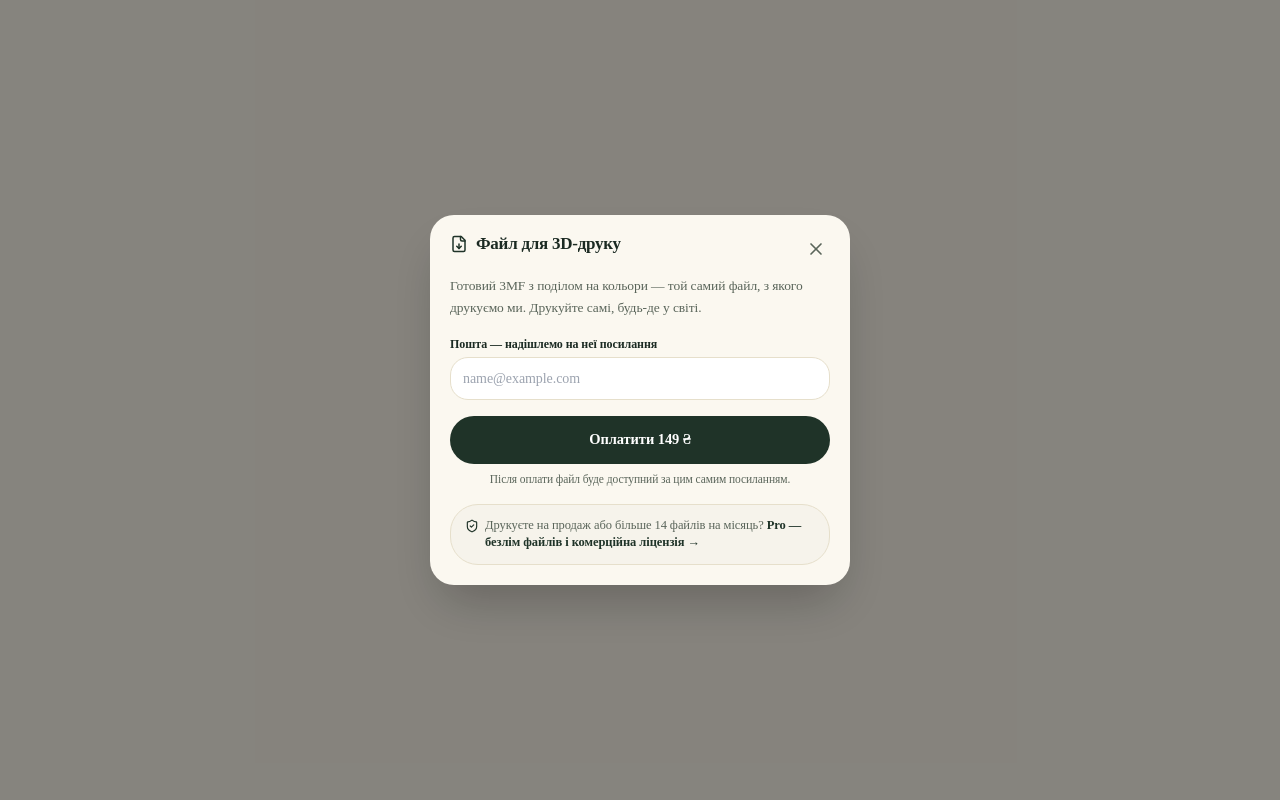
Test: BuyFileDialog · купівля друк-файлу › погана пошта — зрозуміла помилка, а не мовчання
The width and height of the screenshot is (1280, 800).
Check: the button with test id "buy-file-pay" is shown, box [450,416,830,464]
Type "не пошта" into the field with test id "buy-file-email" at (640,379), box [450,357,830,400]
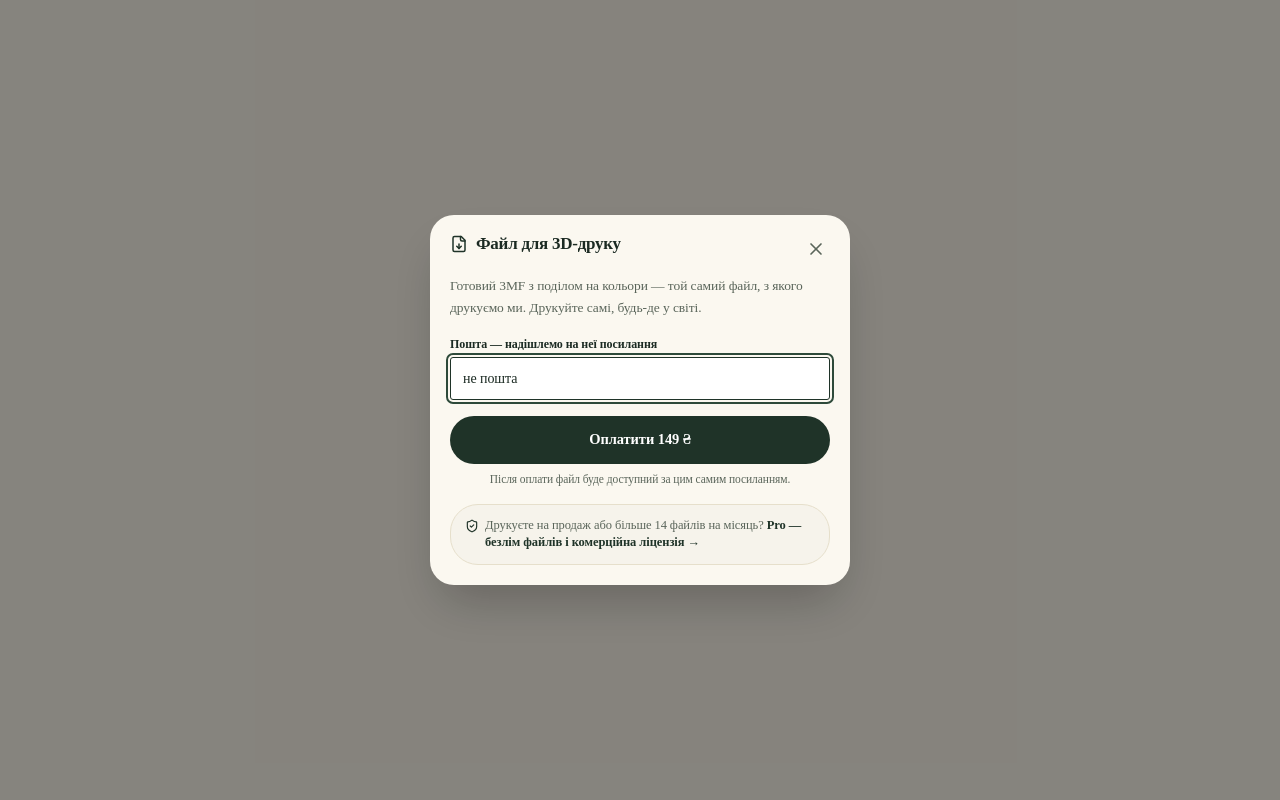
Click the button with test id "buy-file-pay" at (640,440), box [450,416,830,464]
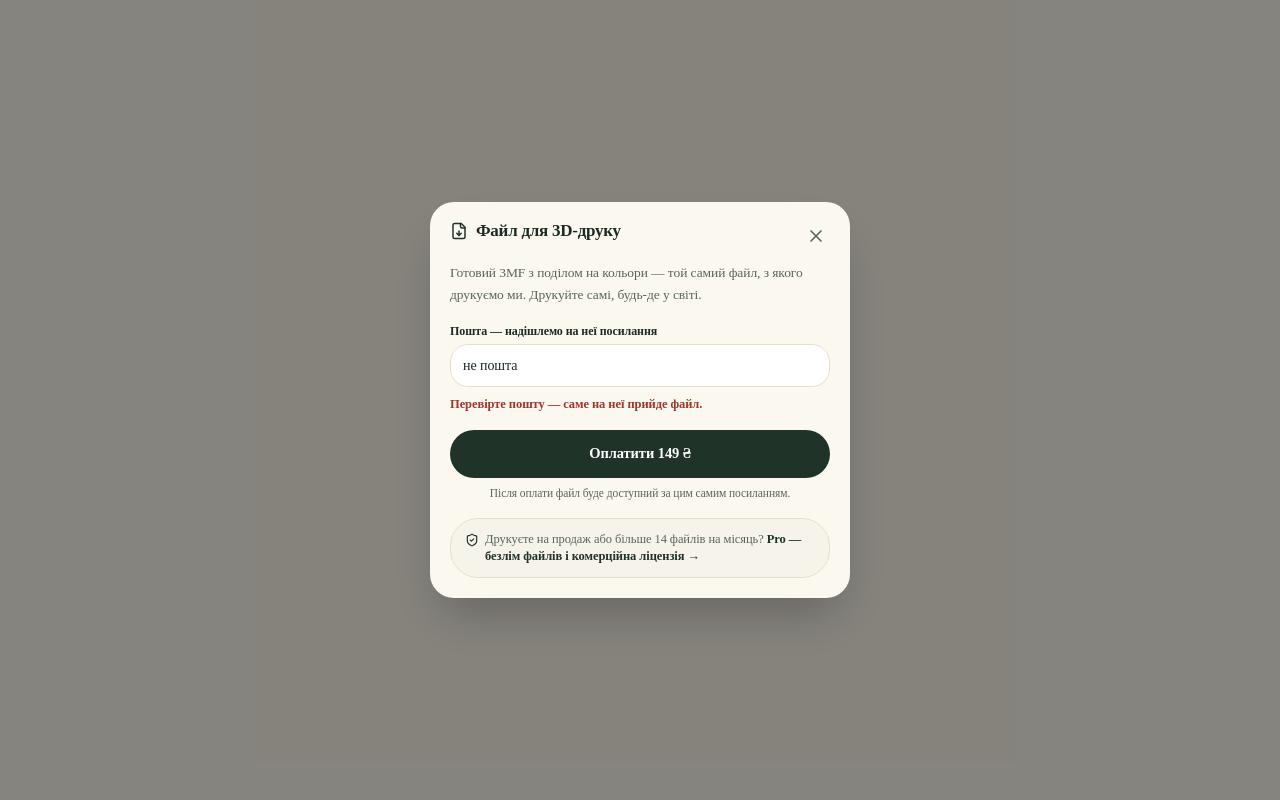
Check: the text with test id "buy-file-error" reads "Перевірте пошту — саме на неї прийде файл.", box [450,397,702,411]
